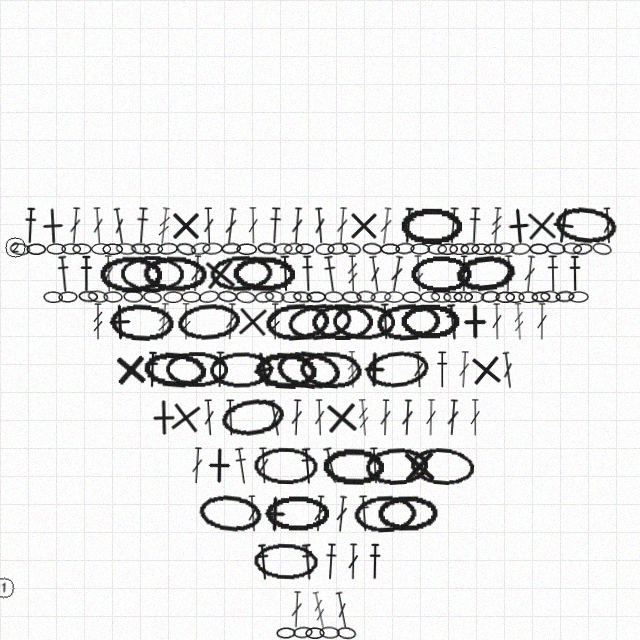chain: (274, 347, 342, 392), (219, 395, 286, 440), (286, 300, 354, 344), (197, 492, 264, 535), (364, 348, 430, 391), (553, 204, 619, 247), (409, 445, 475, 487), (454, 252, 518, 295), (142, 349, 207, 391), (176, 301, 241, 343), (298, 349, 364, 390), (264, 301, 330, 342), (375, 301, 441, 342), (364, 446, 429, 486), (109, 302, 174, 342), (253, 446, 319, 485), (253, 542, 318, 581), (353, 494, 418, 533), (209, 254, 274, 293), (254, 350, 317, 390), (209, 351, 274, 389), (142, 255, 207, 293), (120, 255, 185, 292), (332, 303, 395, 341), (99, 255, 162, 293), (232, 255, 295, 293), (265, 495, 329, 532), (322, 447, 384, 485), (165, 351, 228, 388), (410, 255, 473, 292), (377, 495, 439, 532), (311, 303, 373, 340), (400, 207, 462, 244), (400, 303, 461, 340), (175, 241, 197, 257), (591, 241, 613, 257), (87, 289, 109, 304), (198, 289, 220, 304), (264, 289, 285, 304), (190, 241, 211, 256), (341, 241, 362, 256), (370, 290, 392, 304), (430, 290, 452, 304), (9, 242, 31, 256), (115, 242, 137, 256), (336, 626, 357, 640), (142, 290, 163, 304), (235, 290, 256, 304), (254, 290, 275, 304), (292, 290, 313, 304), (341, 290, 362, 304), (130, 242, 151, 256), (272, 242, 293, 256), (510, 242, 531, 256), (572, 242, 593, 256), (319, 626, 340, 639), (217, 290, 238, 303), (480, 290, 501, 303), (540, 290, 561, 303), (157, 242, 178, 255), (202, 242, 223, 255), (283, 242, 304, 255), (327, 242, 348, 255), (494, 242, 515, 255), (293, 626, 313, 639), (78, 290, 98, 303), (123, 290, 143, 303), (356, 290, 376, 303), (555, 290, 575, 303), (221, 242, 241, 255), (257, 242, 277, 255), (362, 242, 382, 255), (395, 242, 415, 255), (460, 242, 480, 255), (546, 242, 566, 255), (562, 242, 582, 255), (281, 291, 302, 303), (568, 291, 589, 303), (102, 243, 123, 255), (236, 243, 257, 255), (437, 243, 458, 255), (276, 627, 296, 639), (305, 627, 325, 639), (43, 291, 63, 303), (58, 291, 78, 303), (103, 291, 123, 303), (163, 291, 183, 303), (181, 291, 201, 303), (306, 291, 326, 303), (324, 291, 344, 303), (384, 291, 404, 303), (402, 291, 422, 303), (420, 291, 440, 303), (443, 291, 463, 303), (453, 291, 473, 303), (464, 291, 484, 303), (495, 291, 515, 303), (505, 291, 525, 303), (518, 291, 538, 303), (531, 291, 551, 303), (26, 243, 46, 255), (46, 243, 66, 255), (61, 243, 81, 255), (72, 243, 92, 255), (91, 243, 111, 255), (143, 243, 163, 255), (295, 243, 315, 255), (315, 243, 335, 255), (380, 243, 400, 255), (410, 243, 430, 255), (427, 243, 447, 255), (449, 243, 469, 255), (471, 243, 491, 255), (483, 243, 503, 255), (529, 243, 549, 255)
double: (333, 591, 351, 629), (266, 399, 284, 437), (388, 255, 405, 293), (111, 207, 128, 245), (500, 351, 516, 389), (367, 255, 383, 293), (223, 207, 239, 245), (378, 207, 394, 245), (334, 495, 349, 533), (522, 255, 537, 293), (312, 495, 327, 532), (189, 255, 204, 292), (246, 495, 260, 532), (190, 447, 204, 484), (202, 399, 216, 436), (446, 399, 460, 436), (457, 351, 471, 388), (224, 303, 238, 340), (68, 207, 82, 244), (91, 207, 105, 244), (290, 207, 304, 244), (313, 207, 327, 244), (335, 207, 349, 244), (601, 207, 615, 244), (290, 591, 303, 628), (257, 447, 270, 484), (290, 399, 303, 436), (313, 399, 326, 436), (379, 399, 392, 436), (401, 399, 414, 436), (412, 351, 425, 388), (102, 255, 115, 292), (202, 207, 215, 244), (347, 543, 359, 580), (425, 399, 437, 436), (469, 399, 481, 436), (491, 303, 503, 340), (536, 303, 548, 340), (458, 255, 470, 292), (502, 255, 514, 292), (247, 207, 259, 244)
half_double: (320, 446, 342, 485), (232, 447, 251, 485), (321, 255, 340, 293), (255, 543, 272, 581), (299, 543, 316, 581), (299, 447, 316, 485), (444, 303, 461, 341), (55, 255, 72, 293), (323, 543, 339, 580), (356, 495, 372, 532), (367, 447, 383, 484), (134, 207, 150, 244), (267, 207, 283, 244), (400, 207, 416, 244), (445, 207, 461, 244), (223, 399, 238, 436), (145, 351, 160, 388), (378, 303, 393, 340), (278, 255, 293, 292), (300, 255, 315, 292), (23, 207, 38, 244), (467, 207, 482, 244), (368, 543, 382, 580), (213, 351, 227, 388), (435, 351, 449, 388), (79, 255, 93, 292), (546, 255, 560, 292), (568, 255, 582, 292)
noise: (3, 235, 27, 259), (0, 575, 16, 600)
single: (242, 348, 285, 391), (165, 397, 206, 438), (543, 205, 584, 246), (466, 350, 506, 390), (200, 254, 240, 294), (499, 206, 539, 246), (322, 398, 361, 437), (111, 350, 150, 389), (233, 302, 272, 341), (522, 206, 561, 245), (256, 495, 294, 533), (400, 447, 438, 485), (101, 303, 139, 341), (34, 207, 72, 245), (201, 447, 238, 484), (145, 399, 182, 436), (356, 351, 393, 388), (456, 303, 493, 340), (167, 207, 204, 244), (345, 207, 382, 244)
treble: (310, 591, 329, 629), (156, 207, 172, 245), (356, 399, 371, 436), (156, 303, 171, 340), (489, 207, 504, 244), (512, 303, 526, 340), (346, 351, 359, 388), (346, 255, 359, 292), (412, 255, 425, 292), (92, 303, 104, 340), (180, 303, 192, 340), (269, 303, 281, 340)
